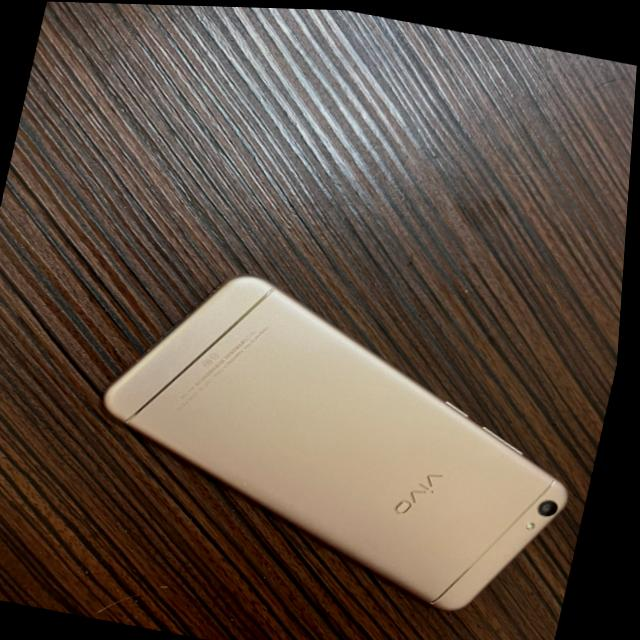Smartphone: (78, 247, 596, 638)
